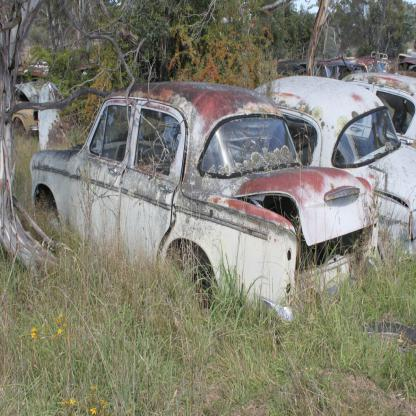Car: (29, 54, 414, 320)
